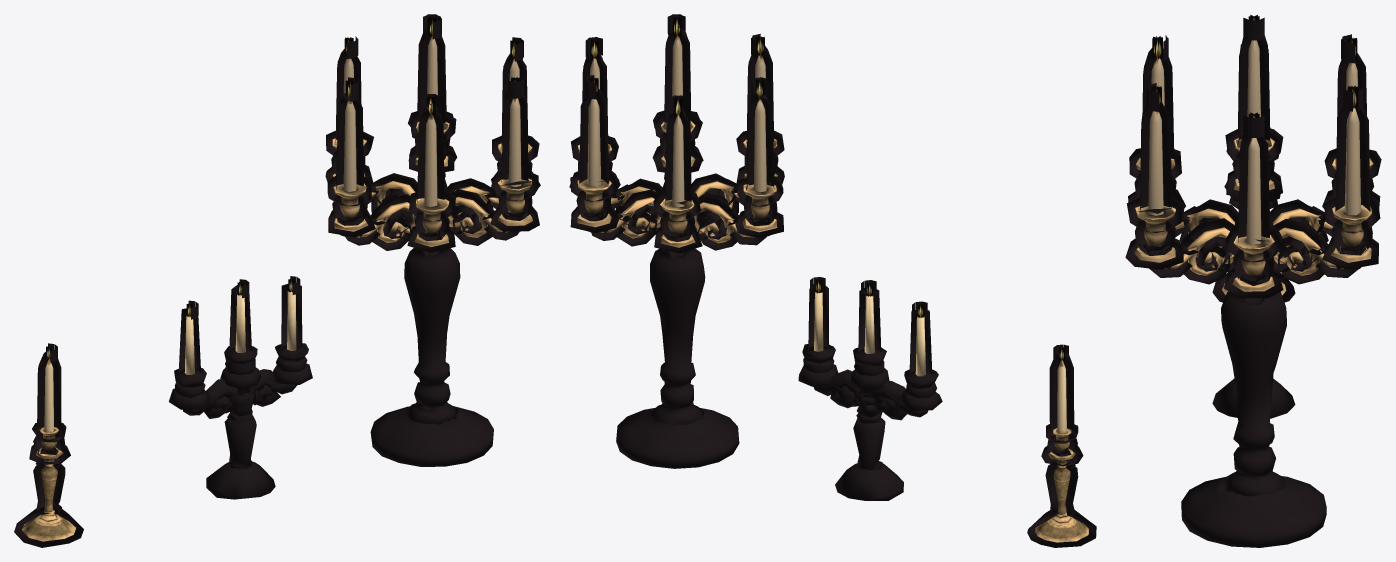
The model's file is SM_Int_Candelabra.fbx.
The picture shows the model from 3 angles, left to right: view 1: azimuth 30°, elevation 25°; view 2: azimuth 150°, elevation 25°; view 3: azimuth 270°, elevation 25°; orthographic projection. The views are drawn at different scales.
Parts seen in each view (by area): view 1: SM_Int_Candelabra; view 2: SM_Int_Candelabra; view 3: SM_Int_Candelabra.
Part boxes in pixels (x1,y1,x2,y2): SM_Int_Candelabra: (14,14,540,547); SM_Int_Candelabra: (569,14,1096,547); SM_Int_Candelabra: (1125,15,1381,547).
Size of the model in its own units: 0.5164 by 0.4043 by 0.1872.
